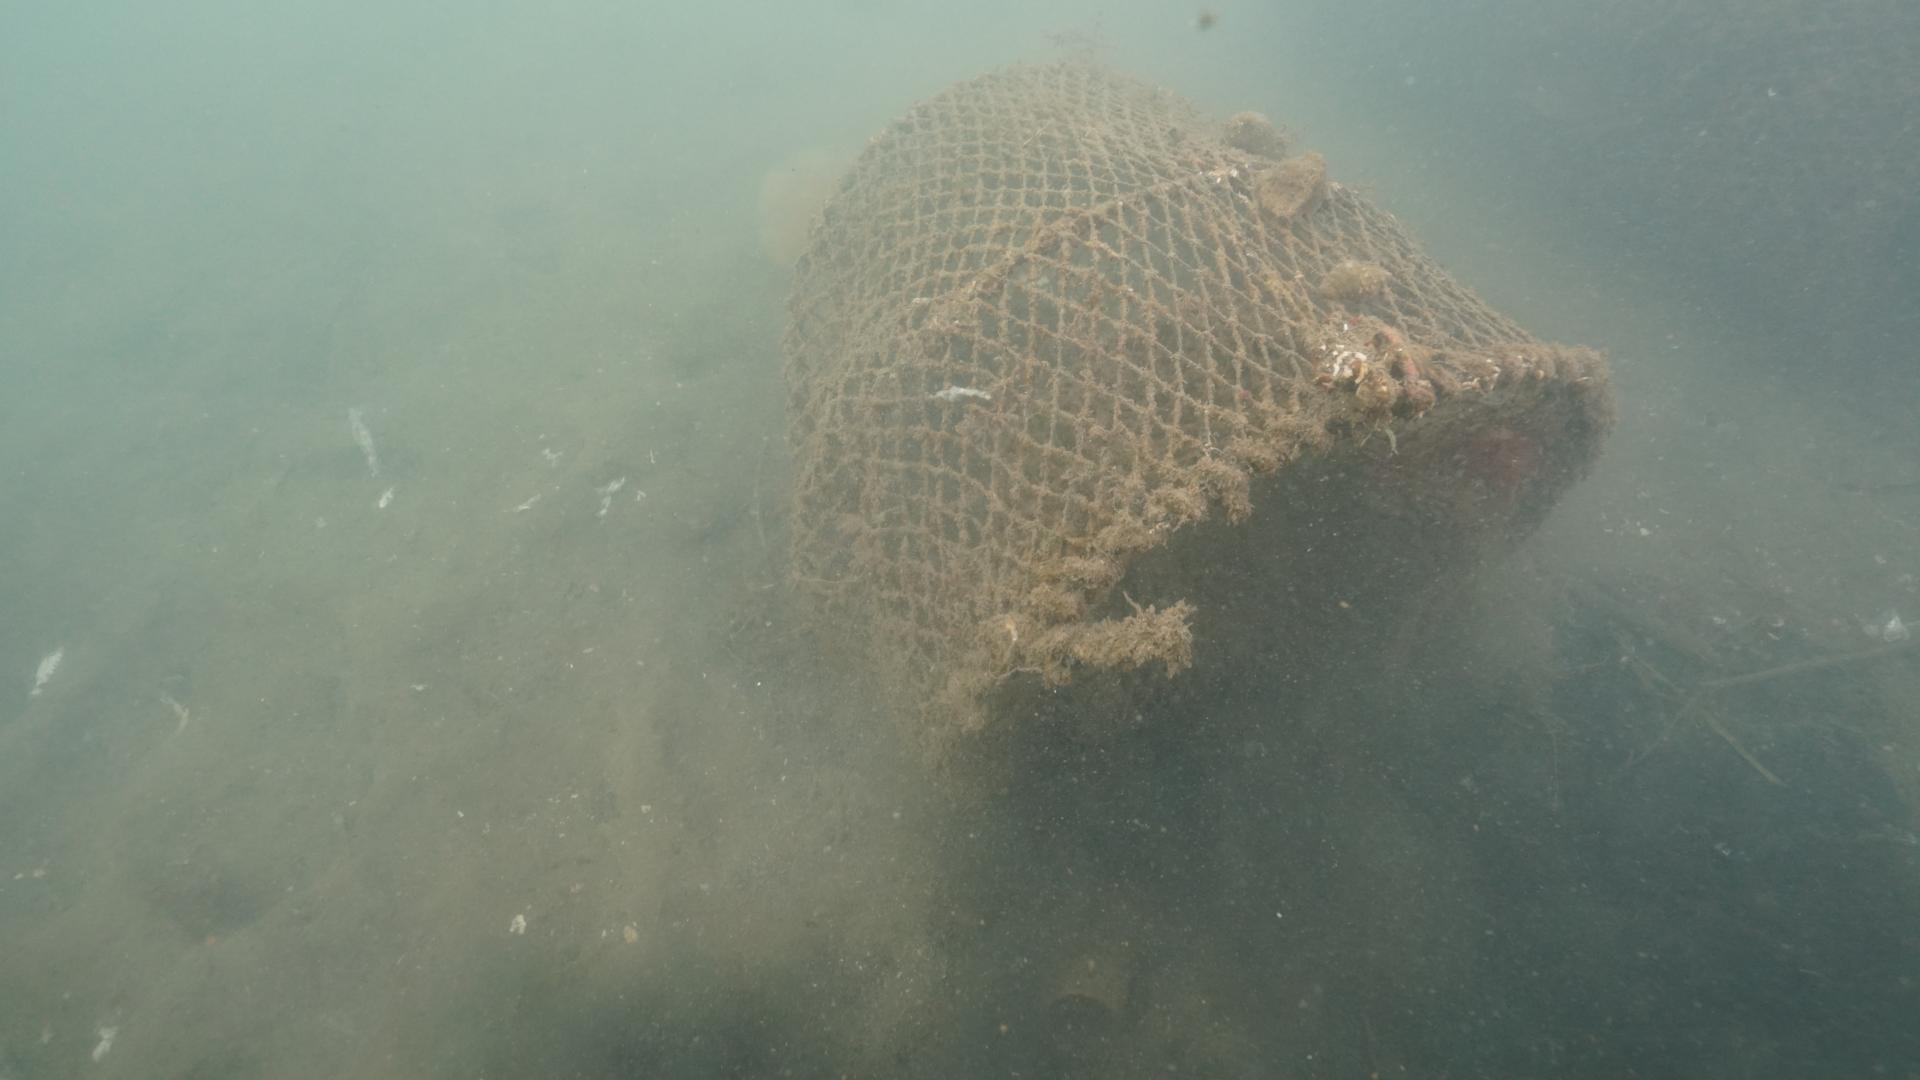spring fish trap: (773, 54, 1625, 799)
